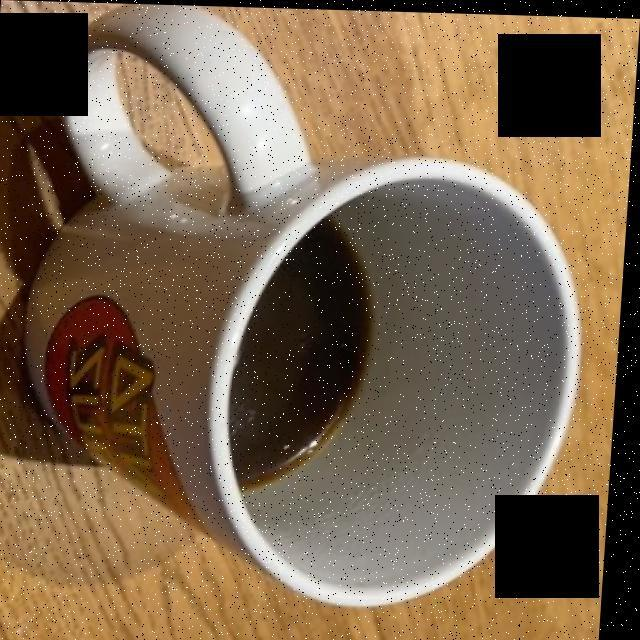coffee: (235, 219, 379, 483)
